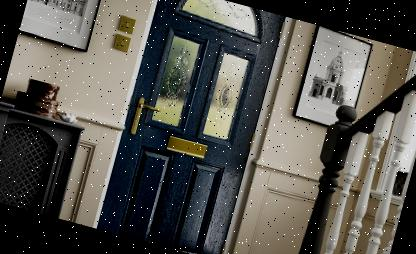door: (90, 0, 289, 254)
